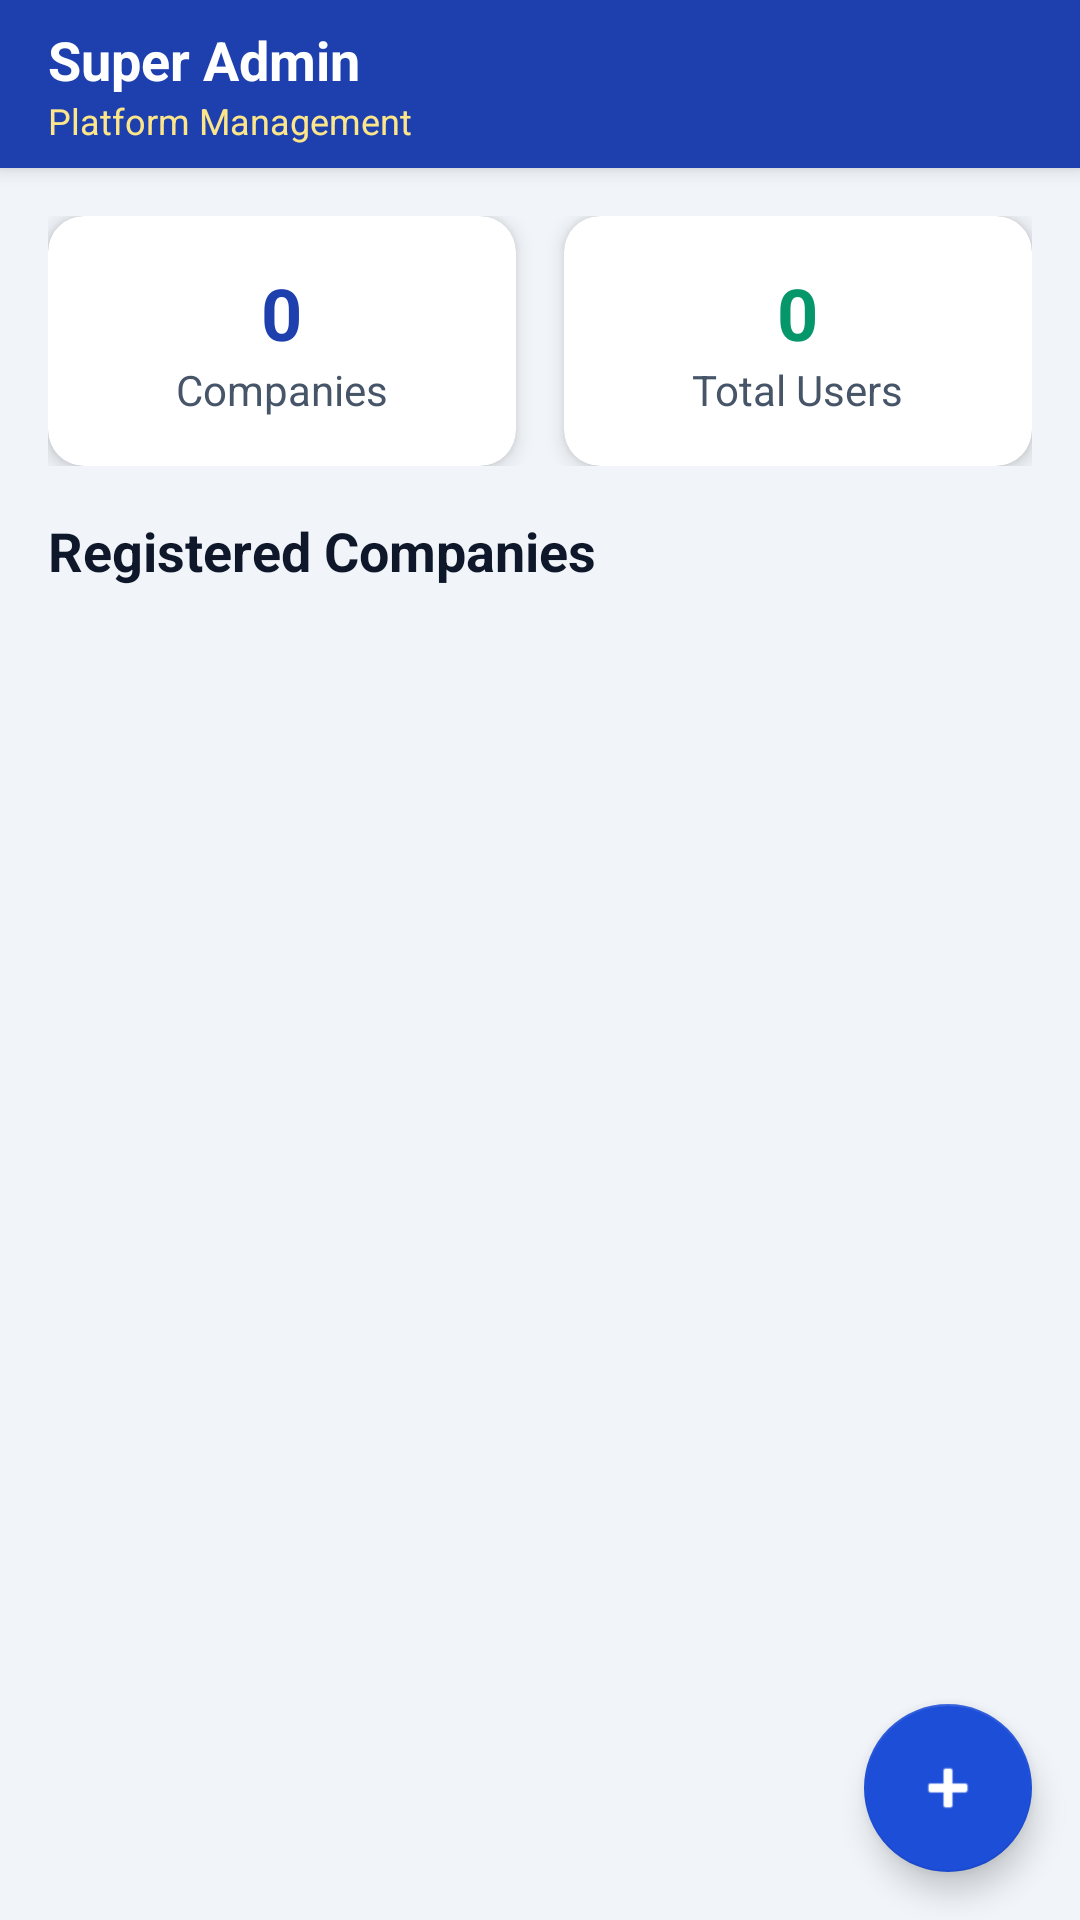

Where icons sit on this 1080 × 1920 app screen, as (x1, y1, x2, y2):
Add Company: (864, 1704, 1032, 1872)
